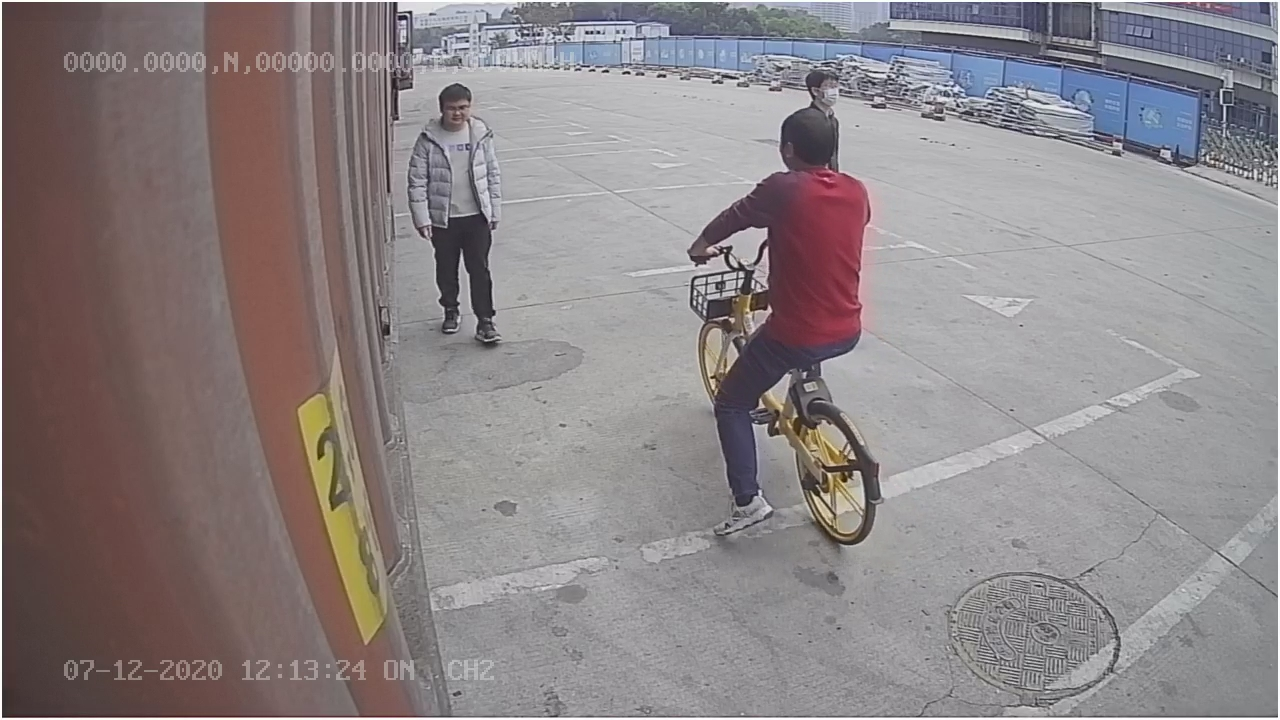person: (408, 80, 509, 348)
